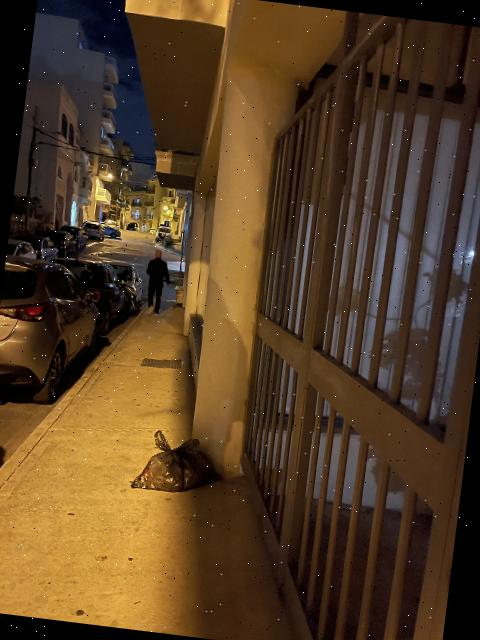Recyclable -Grey-: (131, 430, 218, 492)
